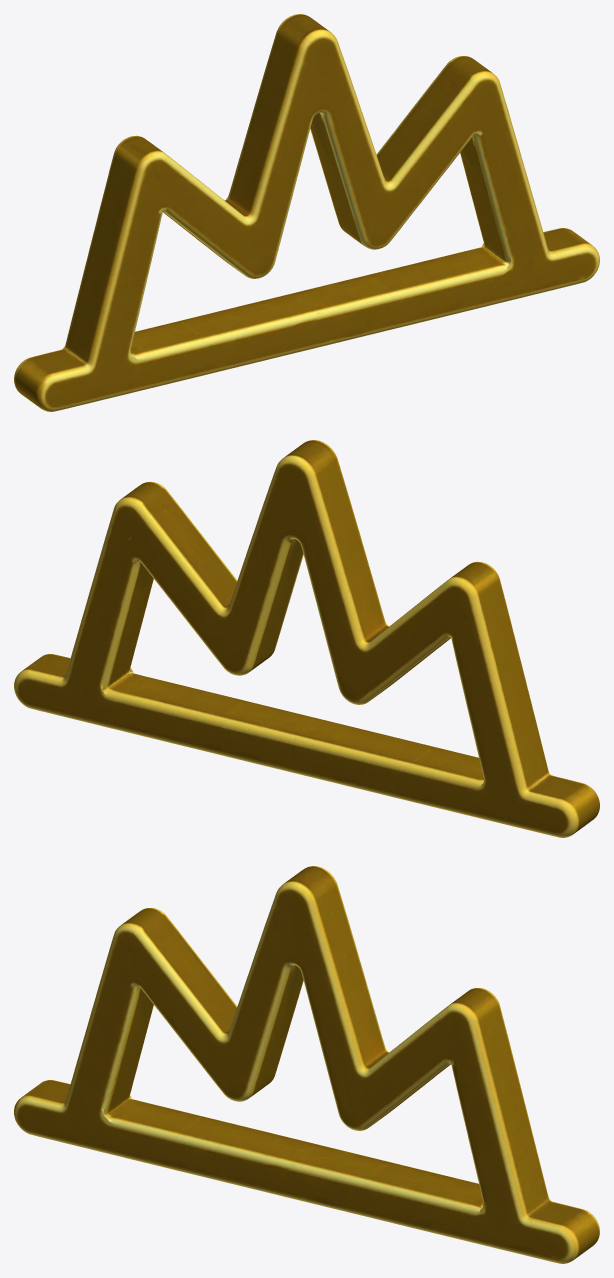
File: crown.glb
3 views of the same model, one above another, from view 1: azimuth 30°, elevation 25°; view 2: azimuth 150°, elevation 25°; view 3: azimuth 330°, elevation 25° (orthographic).
Bounding box in the file's own units: 1.9 × 1.02 × 0.1641.
Materials: 1 (1 with a texture image).
